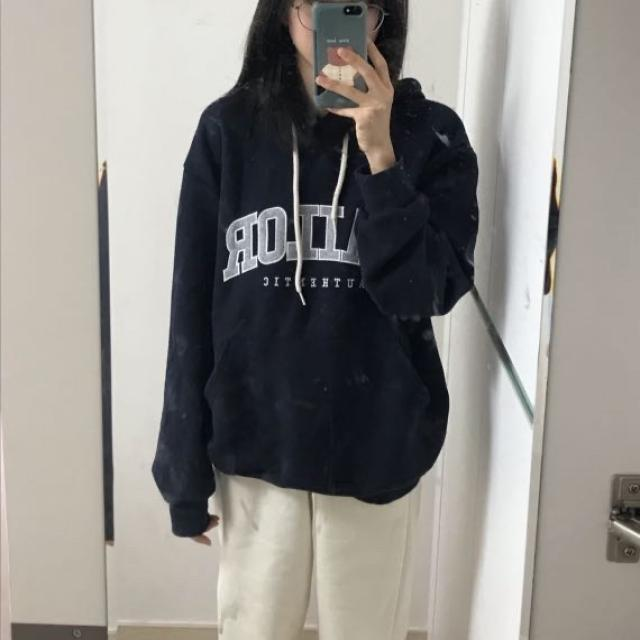cottonpants: (210, 472, 416, 640)
hoodies: (152, 72, 474, 536)
